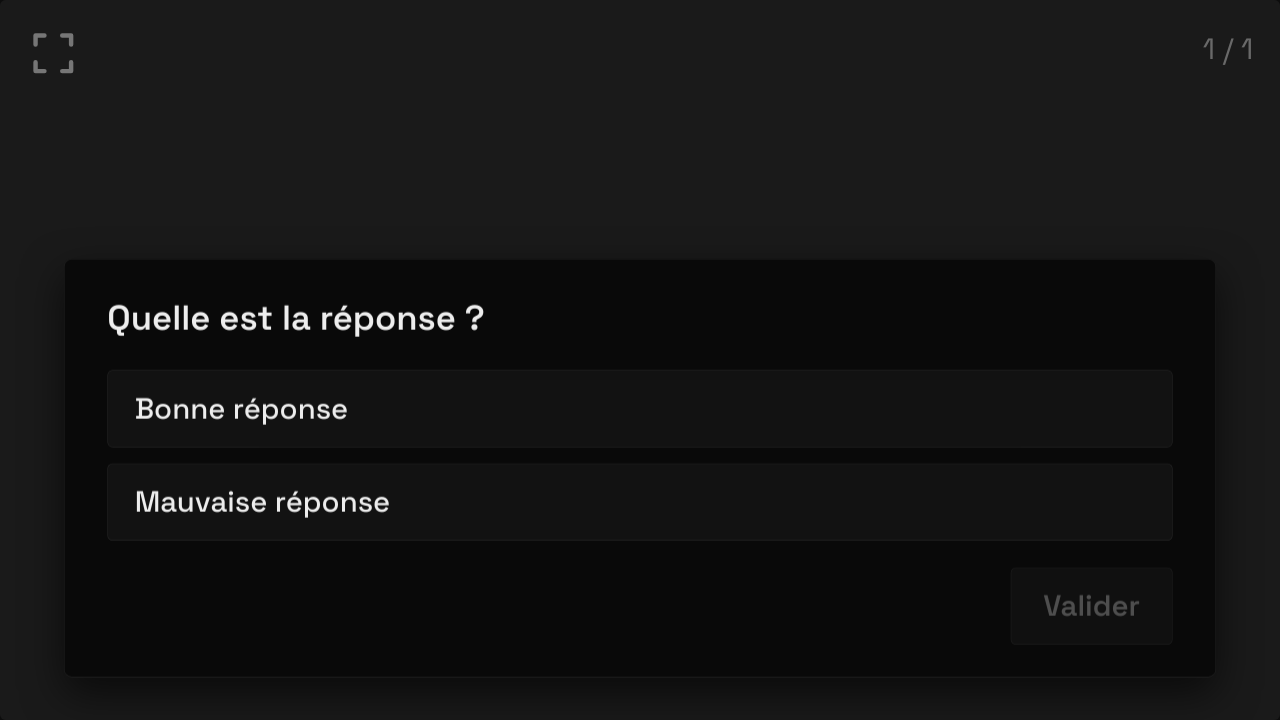
ScenePlayer — quiz › QCU : sélectionner une option remplace la précédente
The image size is (1280, 720).
Click the button "Bonne réponse": x=241, y=409 [107,370,1173,447]
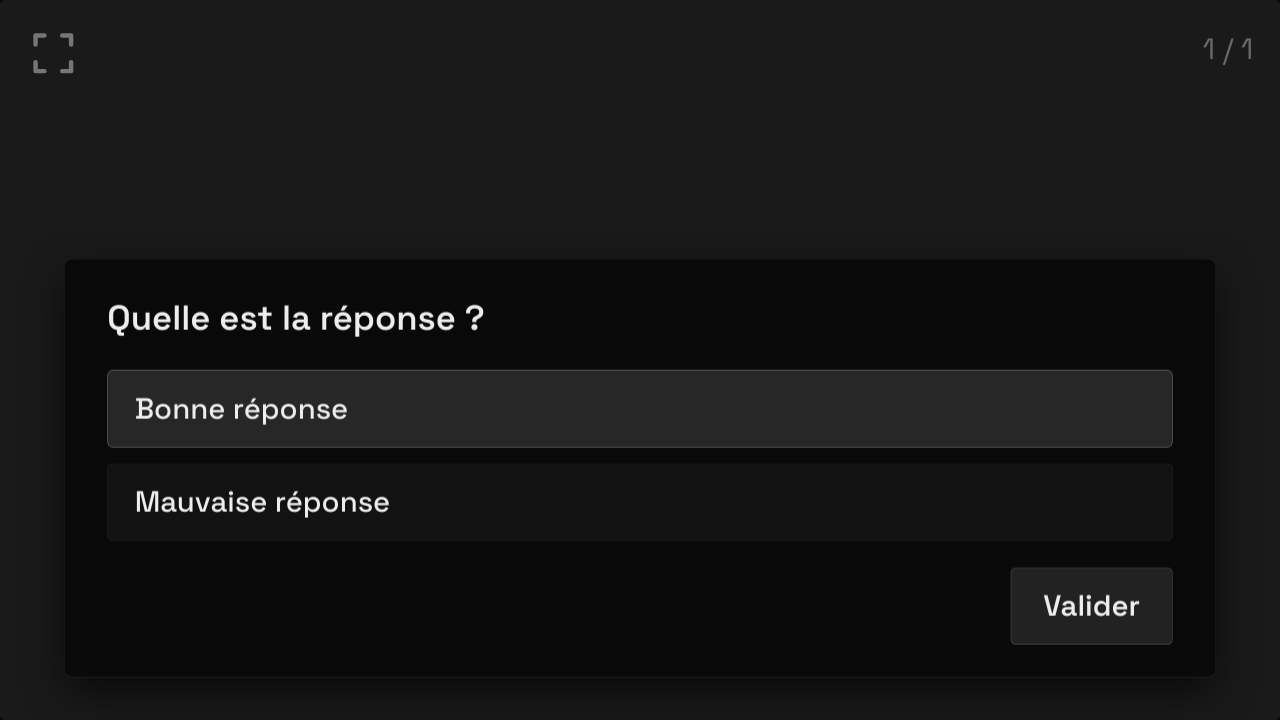
Click the button "Mauvaise réponse": x=262, y=502 [107,463,1173,541]
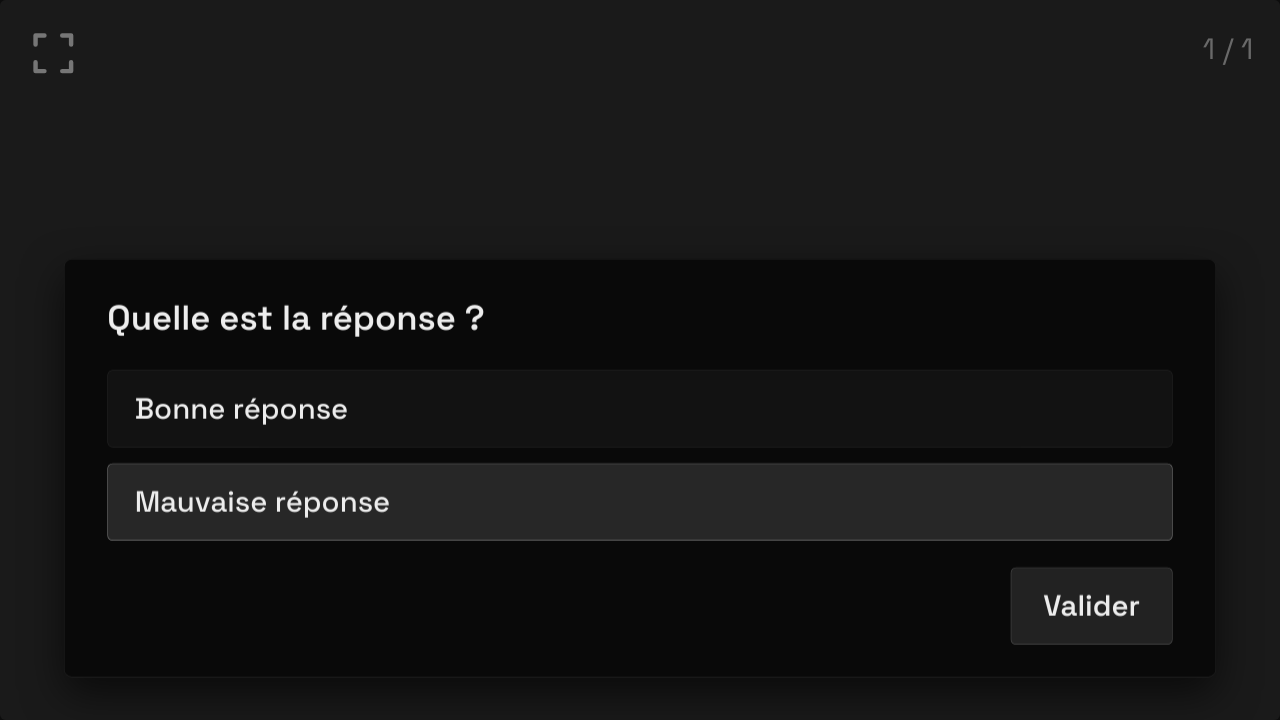
Expected: the button "Valider" is enabled
Click the button "Valider": x=1092, y=606 [1011,567,1173,645]
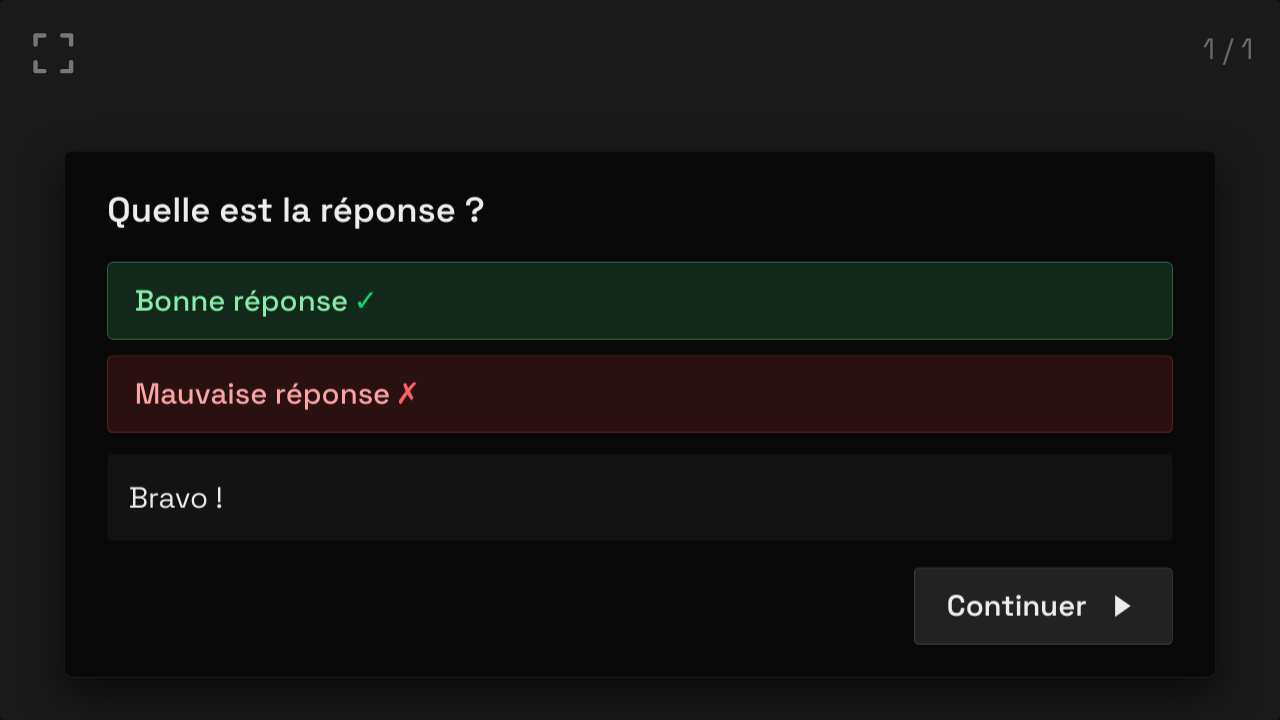
Expected: the text "Bravo !" is shown, [107,454,1173,541]
